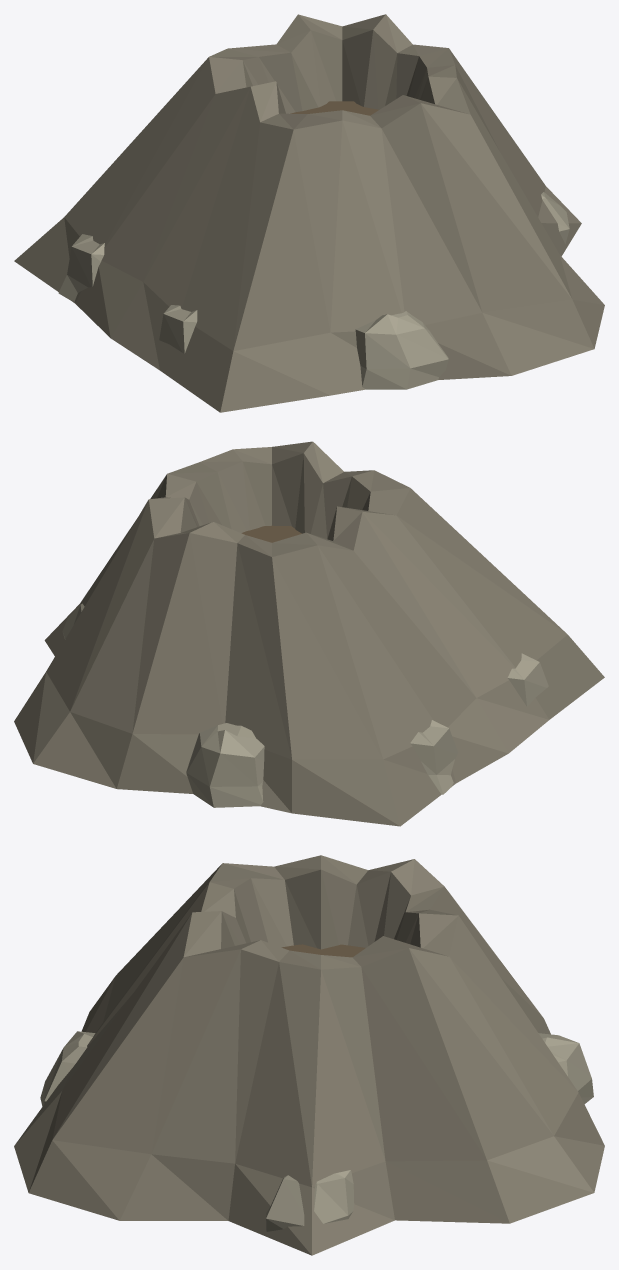
The model's file is dormant-caldera.glb.
3 views of the same model, one above another, from view 1: azimuth 30°, elevation 25°; view 2: azimuth 150°, elevation 25°; view 3: azimuth 270°, elevation 25° (orthographic). The views are drawn at different scales.
Parts seen in each view (by area): view 1: dormant-caldera; view 2: dormant-caldera; view 3: dormant-caldera.
Part boxes in pixels (box(x1,y1,x2,y2)): dormant-caldera: box(14, 14, 604, 412); dormant-caldera: box(14, 441, 604, 826); dormant-caldera: box(14, 855, 604, 1255).
Bounding box in the file's own units: 6.42 × 2.79 × 6.5.
